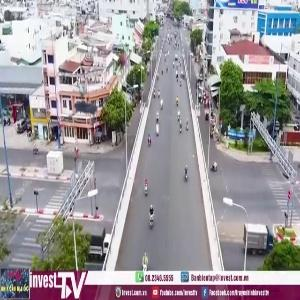drone: (50, 62, 124, 136)
